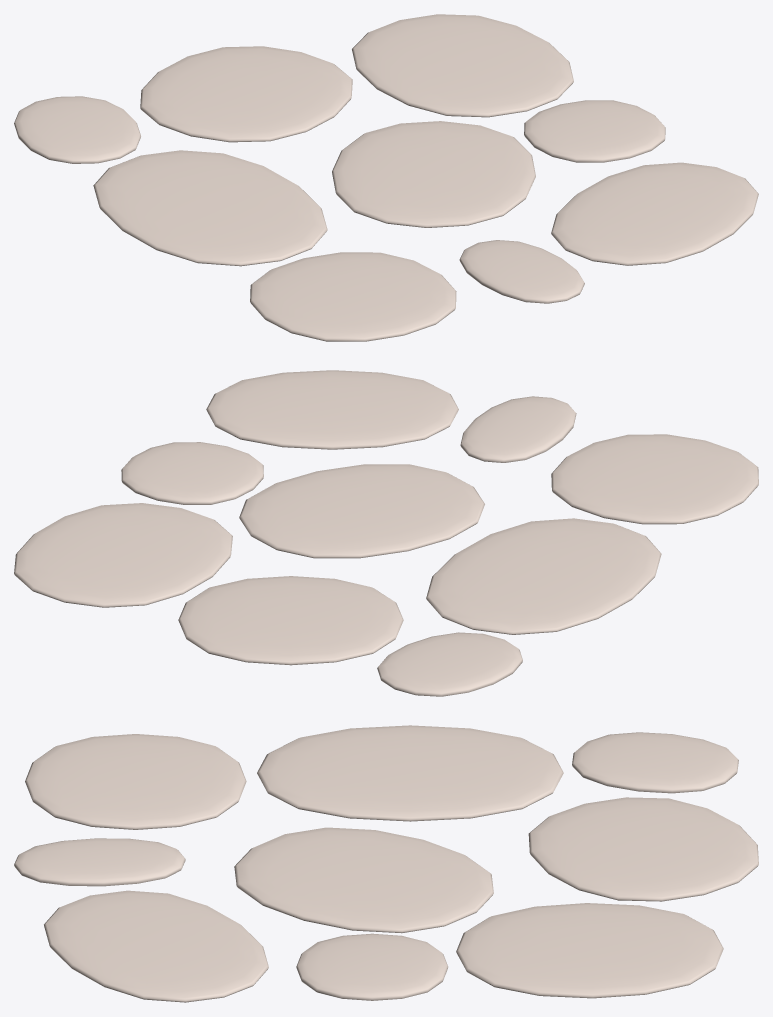
Rendered from Path_3.glb.
3 views of the same model, one above another, from view 1: azimuth 30°, elevation 25°; view 2: azimuth 150°, elevation 25°; view 3: azimuth 270°, elevation 25° (orthographic). The views are drawn at different scales.
Visible parts, largest first — view 1: Path_3; view 2: Path_3; view 3: Path_3.
Boxes of the visible parts, <box> form: Path_3: <box>14,14,758,341</box>; Path_3: <box>14,370,758,696</box>; Path_3: <box>14,725,758,1002</box>.
Size of the model in its own units: 1.31 by 0.0171 by 1.5.
1 material, 1 textured.
